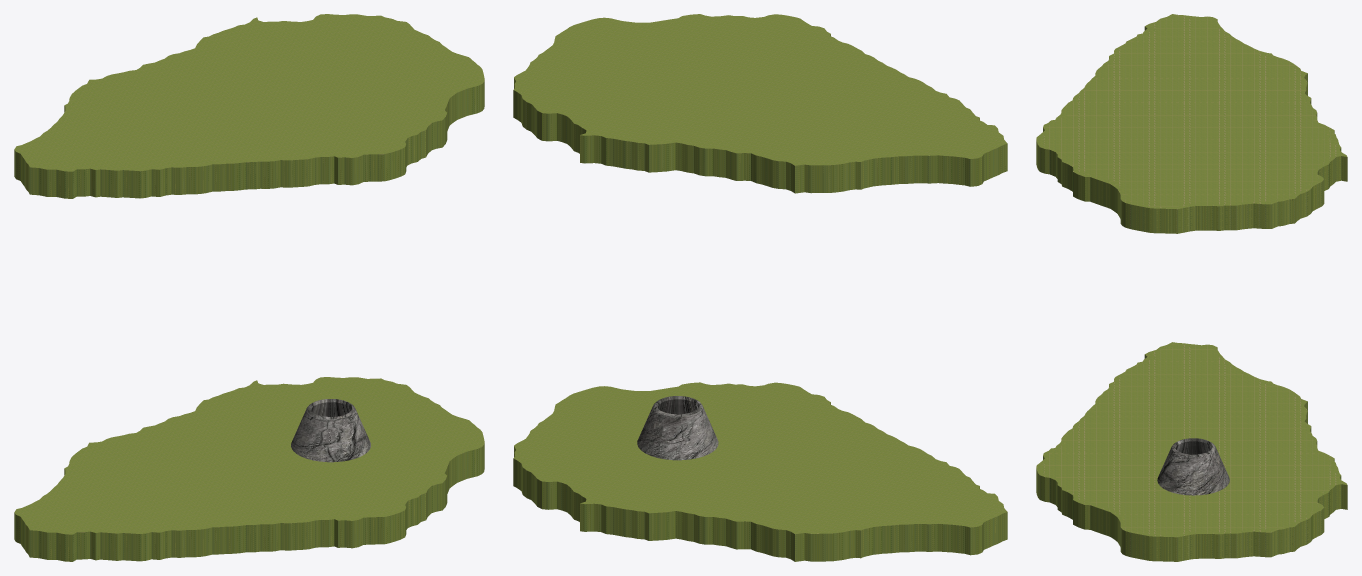
File: Aoki_Island.glb
3 renders of one model, left to right at view 1: azimuth 30°, elevation 25°; view 2: azimuth 150°, elevation 25°; view 3: azimuth 270°, elevation 25°, orthographic. The views are drawn at different scales.
Visible parts, largest first — view 1: Island.001, Island.002, Volcano; view 2: Island.001, Island.002, Volcano; view 3: Island.001, Island.002, Volcano.
Boxes of the visible parts, x1,y1,x2,y2 form: Island.001: [14, 14, 484, 198]; Island.002: [14, 377, 484, 561]; Volcano: [291, 399, 370, 462]; Island.001: [513, 14, 1007, 193]; Island.002: [513, 382, 1007, 561]; Volcano: [637, 396, 718, 460]; Island.001: [1036, 14, 1347, 233]; Island.002: [1036, 342, 1347, 561]; Volcano: [1157, 438, 1229, 495].
Bounding box in the file's own units: 237 × 200 × 160.
Materials: 3 (3 with a texture image).
